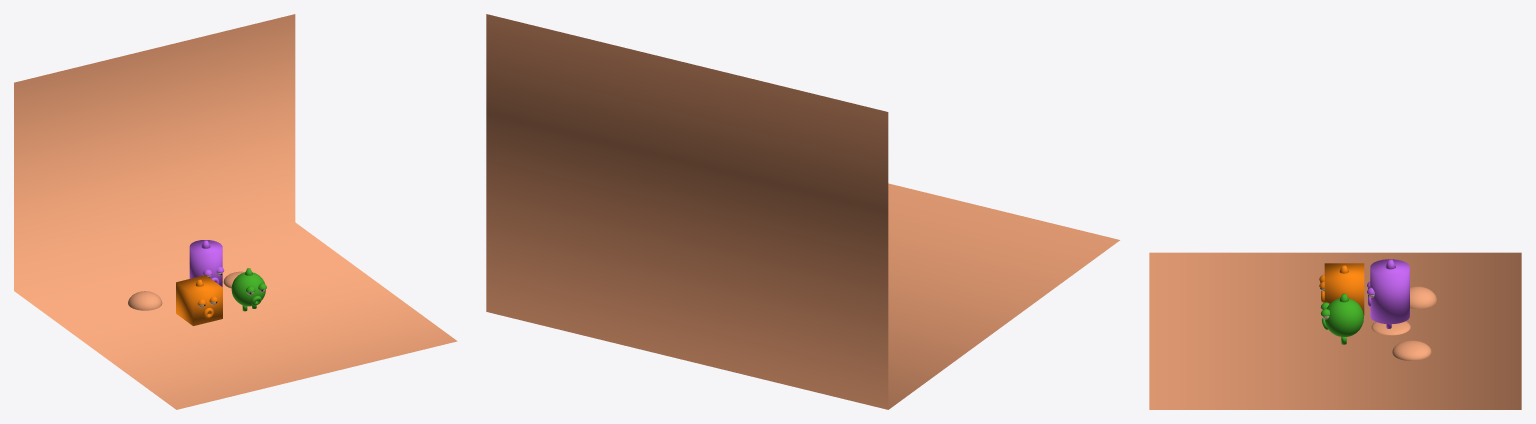
File: brother.glb
The picture shows the model from 3 angles, left to right: view 1: azimuth 30°, elevation 25°; view 2: azimuth 150°, elevation 25°; view 3: azimuth 270°, elevation 25°; orthographic projection. The views are drawn at different scales.
Visible parts, largest first — view 1: 平面, 立方体, 柱体.004, 球体.006, 球体.020; view 2: 平面; view 3: 平面, 柱体.004, 立方体, 球体.006, 球体.022, 球体.020, 球体.019.
Part boxes in pixels (x1,y1,x2,y2): 平面: [14, 14, 457, 409]; 立方体: [176, 275, 222, 325]; 柱体.004: [189, 240, 222, 286]; 球体.006: [231, 272, 265, 306]; 球体.020: [128, 291, 162, 310]; 平面: [486, 14, 1119, 409]; 平面: [1149, 252, 1521, 409]; 柱体.004: [1370, 259, 1409, 324]; 立方体: [1324, 263, 1364, 315]; 球体.006: [1324, 298, 1363, 336]; 球体.022: [1392, 340, 1431, 360]; 球体.020: [1410, 286, 1437, 308]; 球体.019: [1371, 321, 1410, 335].
Bounding box in the file's own units: 18.82 × 14 × 18.82.
